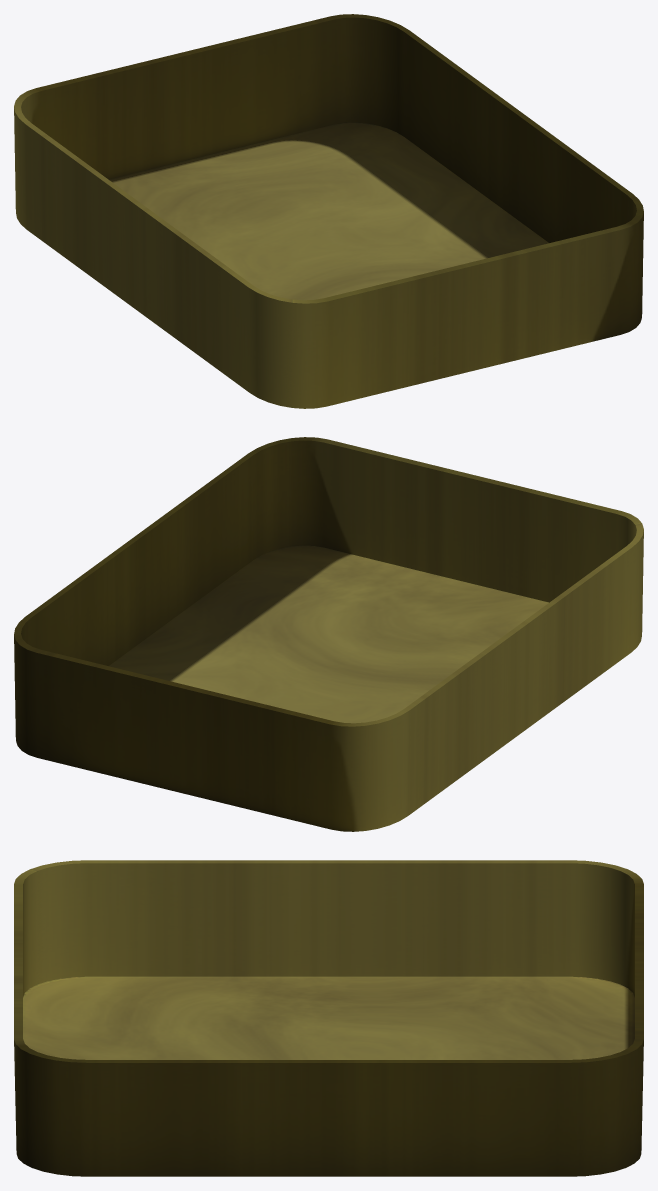
The model's file is lunchbox.glb.
The picture shows the model from 3 angles, top to bottom: view 1: azimuth 30°, elevation 25°; view 2: azimuth 150°, elevation 25°; view 3: azimuth 270°, elevation 25°; orthographic projection. The views are drawn at different scales.
Visible parts, largest first — view 1: 弁当箱＿木目; view 2: 弁当箱＿木目; view 3: 弁当箱＿木目.
Part boxes in pixels (<box>): 弁当箱＿木目: <box>14,14,643,408</box>; 弁当箱＿木目: <box>14,437,643,831</box>; 弁当箱＿木目: <box>14,860,643,1176</box>.
Bounding box in the file's own units: 0.9515 × 0.2511 × 1.25.
1 material, 1 textured.
